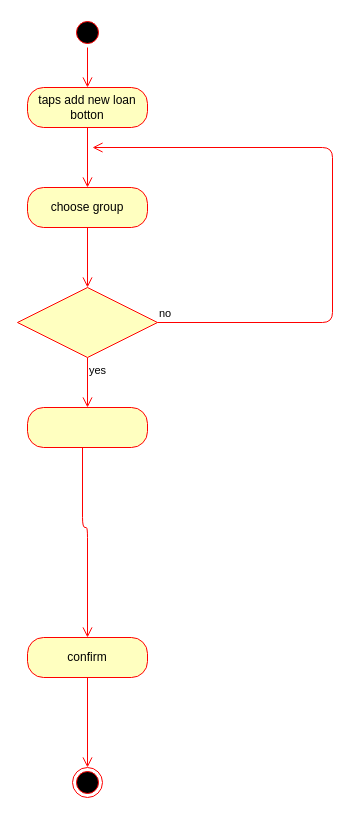
Some shapes in this 360 by 815 pixel diagram are drawn without their labels. The shapes that lost their labels are listed below. From the top down, each one's centre as x and y in pixels, then its label:
pixel 87 322: group exists?
pixel 87 427: specifing associativity percentage
